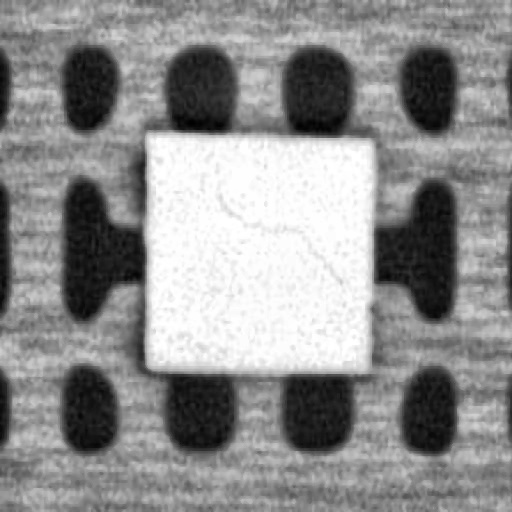DIE_CRACK: (213, 191, 342, 281)
